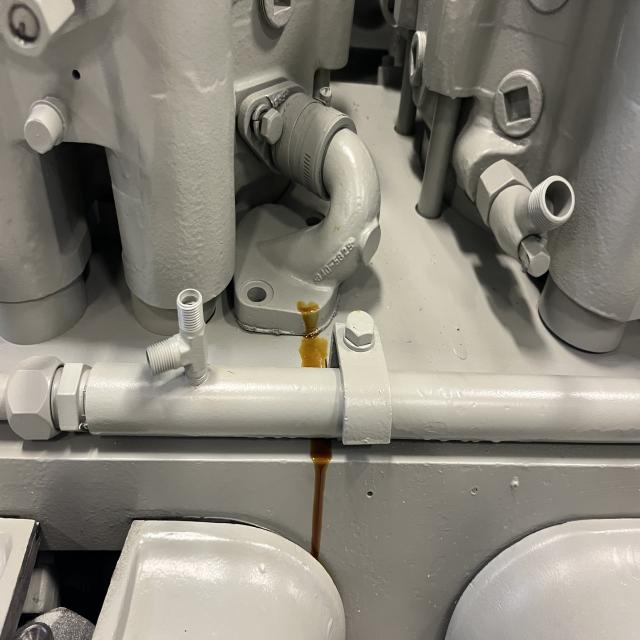Oil Leak: (310, 439, 332, 560), (297, 301, 328, 368)
